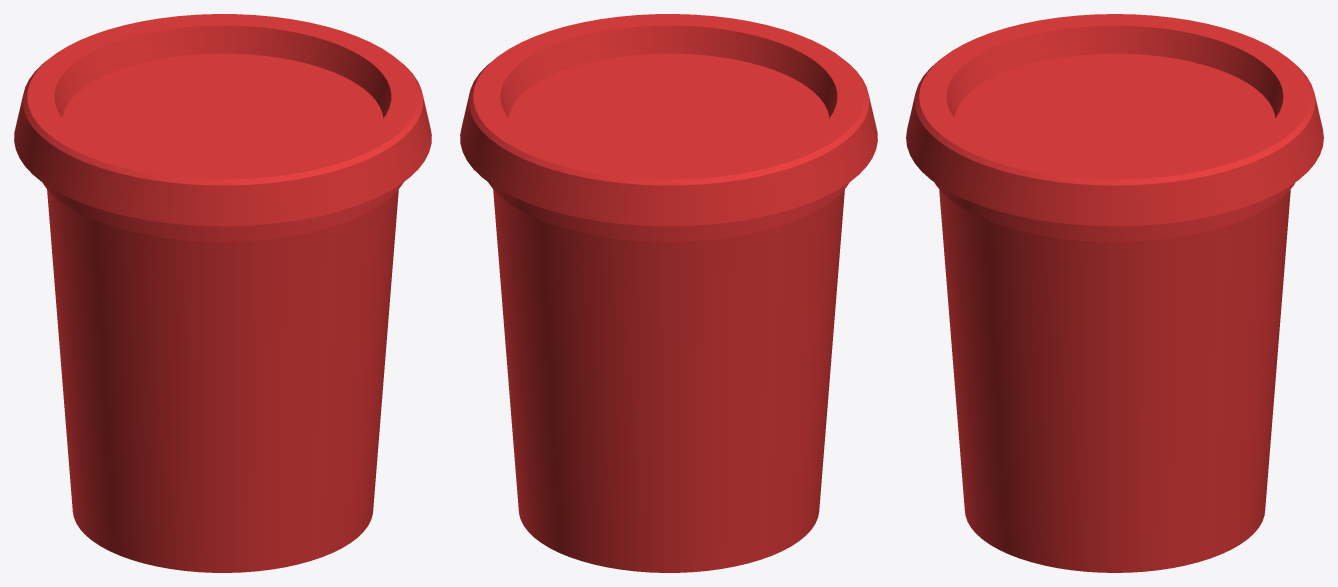
3 views of the same model, side by side, from view 1: azimuth 30°, elevation 25°; view 2: azimuth 150°, elevation 25°; view 3: azimuth 270°, elevation 25° (orthographic).
Parts seen in each view (by area): view 1: container; view 2: container; view 3: container.
Part boxes in pixels (left/top/right/bottom): container: left=14, top=14, right=431, bottom=572; container: left=460, top=14, right=877, bottom=572; container: left=906, top=14, right=1323, bottom=572.
Size of the model in its own units: 0.0918 by 0.1 by 0.0918.
